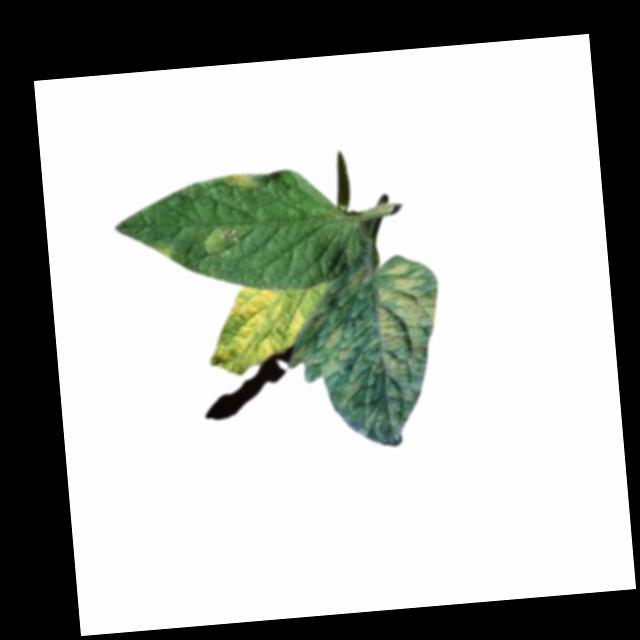Leaf_Mold: (202, 281, 311, 378), (372, 257, 450, 381), (286, 313, 384, 411), (201, 222, 247, 255), (346, 264, 374, 296), (150, 236, 177, 263), (227, 171, 261, 192)
